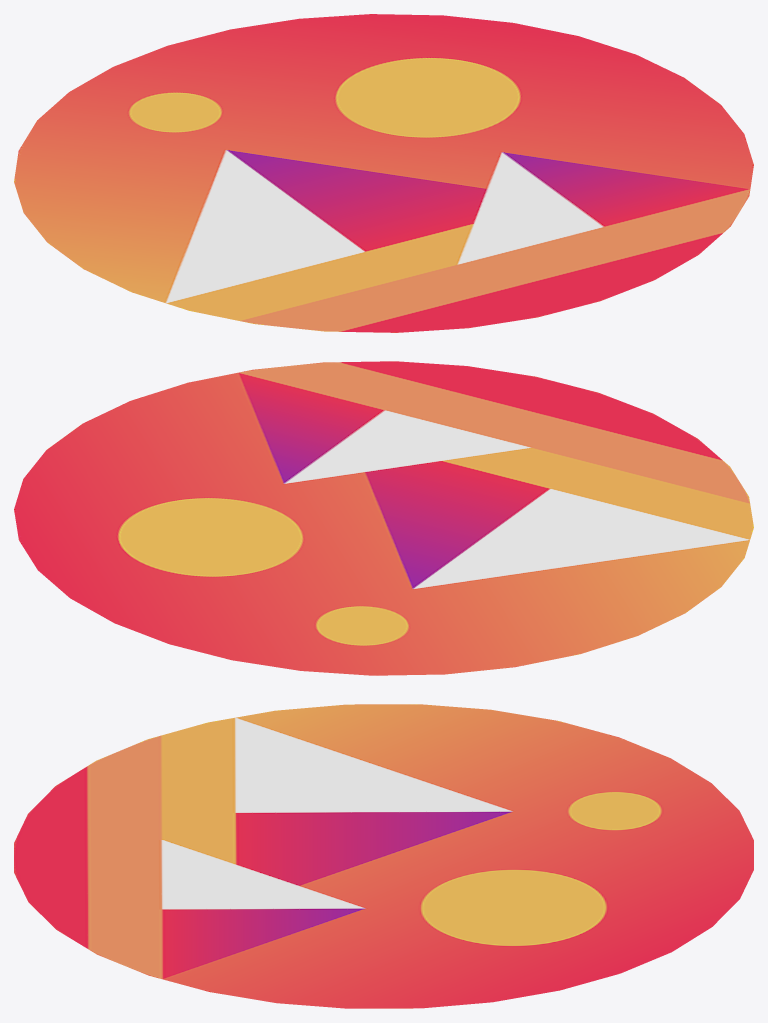
The model's file is decentraland.glb.
3 renders of one model, top to bottom at view 1: azimuth 30°, elevation 25°; view 2: azimuth 150°, elevation 25°; view 3: azimuth 270°, elevation 25°, orthographic.
Visible parts, largest first — view 1: Circle; view 2: Circle; view 3: Circle.
Part boxes in pixels (x1,y1,x2,y2): Circle: (14, 14, 753, 332); Circle: (14, 361, 753, 675); Circle: (14, 704, 753, 1008).
Size of the model in its own units: 3.98 by 0.0523 by 3.98.
Materials: 1 (1 with a texture image).
